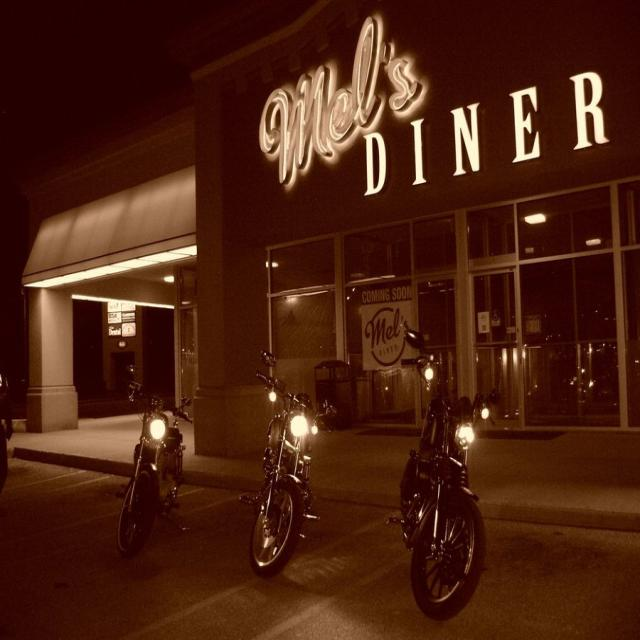Motorbike: (385, 314, 513, 640), (96, 343, 195, 575), (245, 356, 325, 588)
